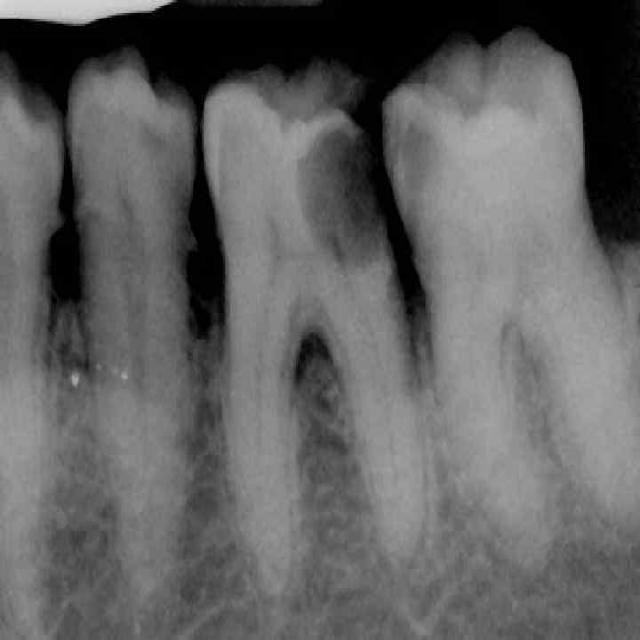Caries: (201, 67, 390, 594)
